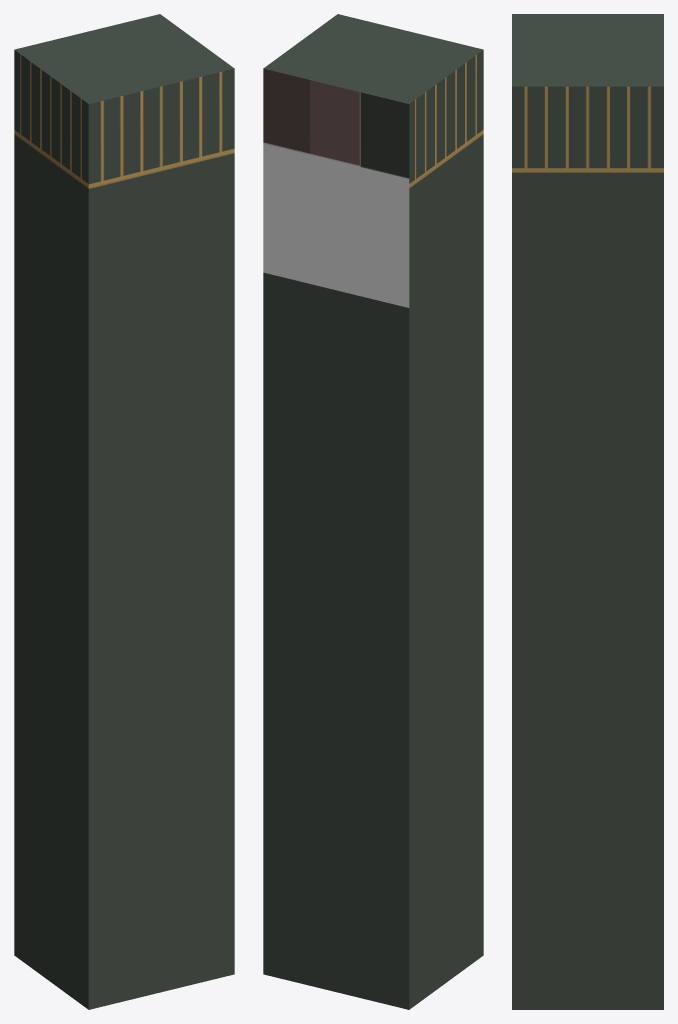
The model's file is fbx_restaurant_ex_coulmn.fbx.
3 views of the same model, side by side, from view 1: azimuth 30°, elevation 25°; view 2: azimuth 150°, elevation 25°; view 3: azimuth 270°, elevation 25° (orthographic).
Visible parts, largest first — view 1: fbx_restaurant_ex_coulmn; view 2: fbx_restaurant_ex_coulmn; view 3: fbx_restaurant_ex_coulmn.
Boxes of the visible parts, bbox=[...] form: fbx_restaurant_ex_coulmn: bbox=[14, 14, 234, 1009]; fbx_restaurant_ex_coulmn: bbox=[263, 14, 483, 1009]; fbx_restaurant_ex_coulmn: bbox=[512, 14, 663, 1009].
Size of the model in its own units: 0.2219 by 1.32 by 0.1964.
Materials: 1 (1 with a texture image).
